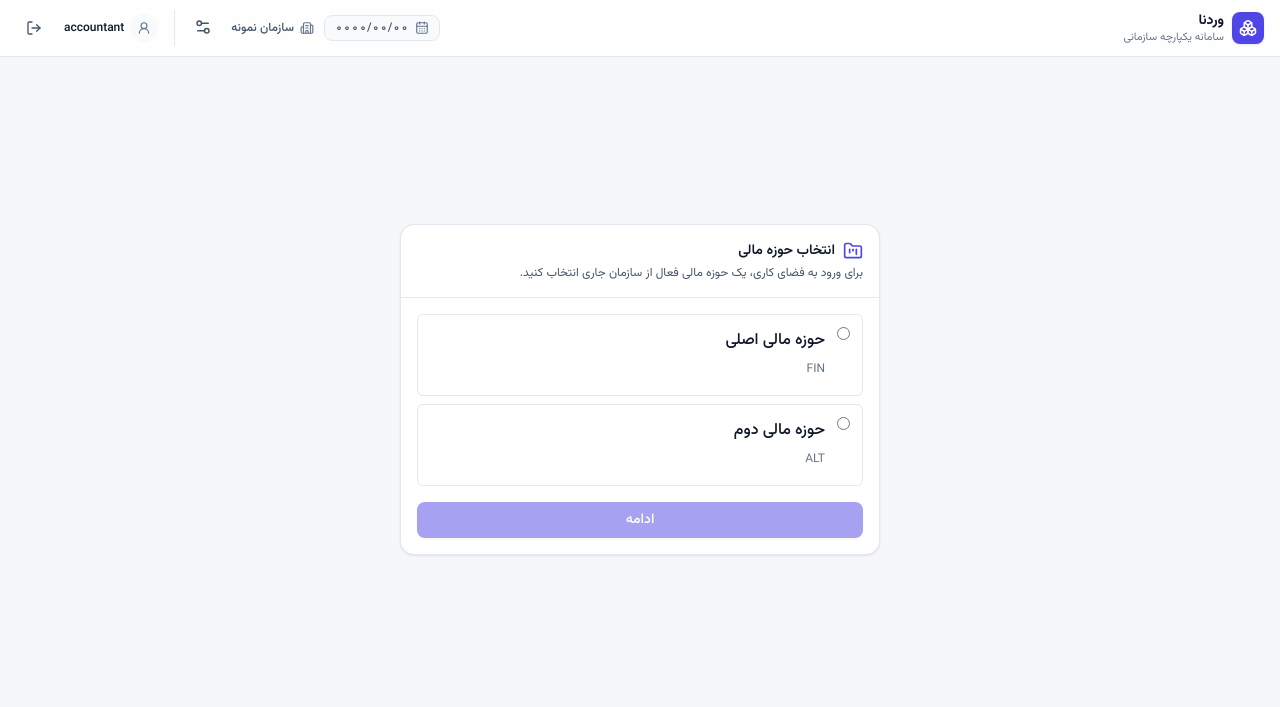
Test case: financial workspace context gate › clears a stale fiscal-year selection when the active area changes
The width and height of the screenshot is (1280, 707).
Click the radio button labelled "حوزه مالی اصلی FIN" at {"x": 844, "y": 333}, box [837, 326, 850, 340]
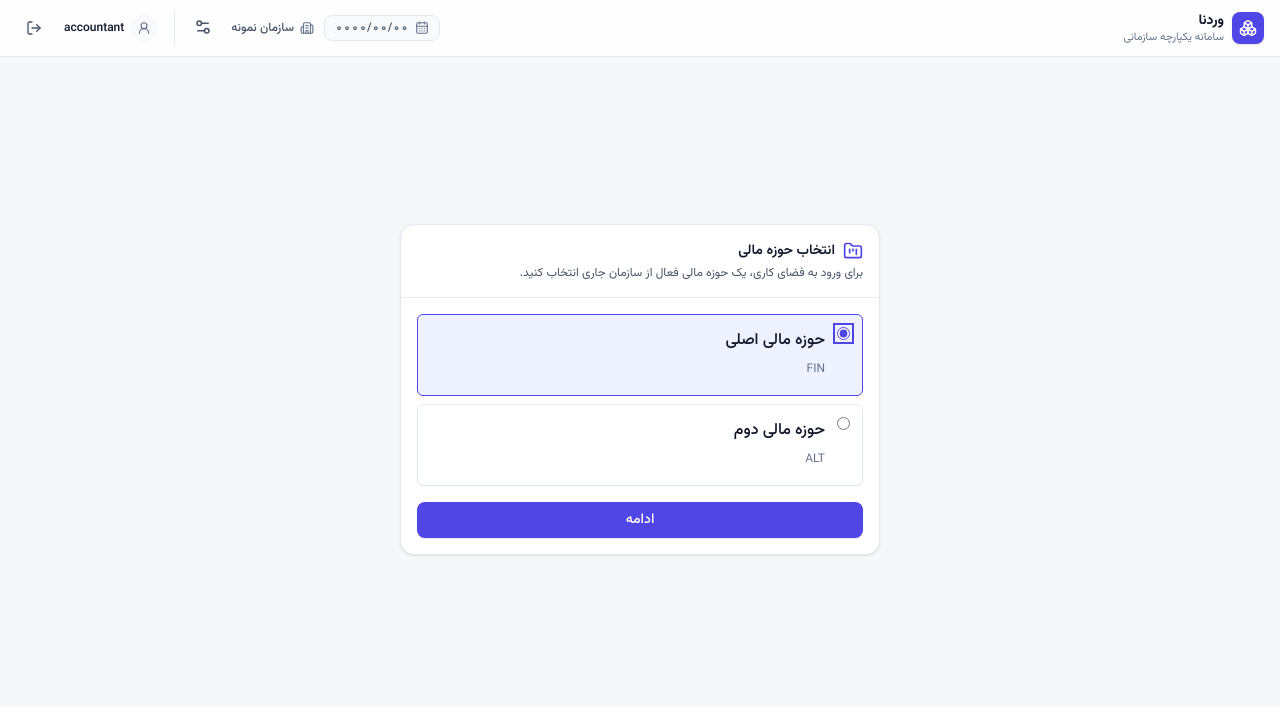
Click the button "ادامه" at {"x": 640, "y": 520}, box [417, 502, 863, 538]
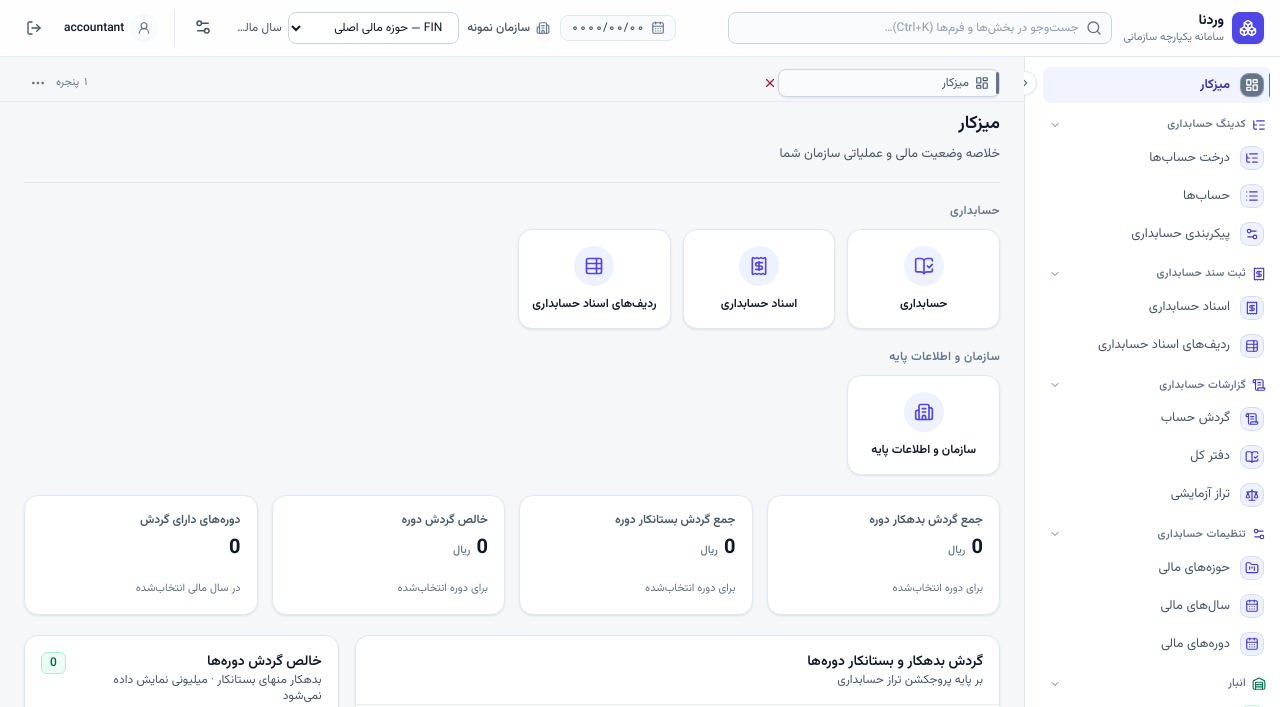
Expected: the heading "میزکار" is shown, [958, 110, 1000, 138]
Select "ALT — حوزه مالی دوم" in the dropdown named "تغییر حوزه مالی" at {"x": 374, "y": 28}, box [288, 12, 459, 44]
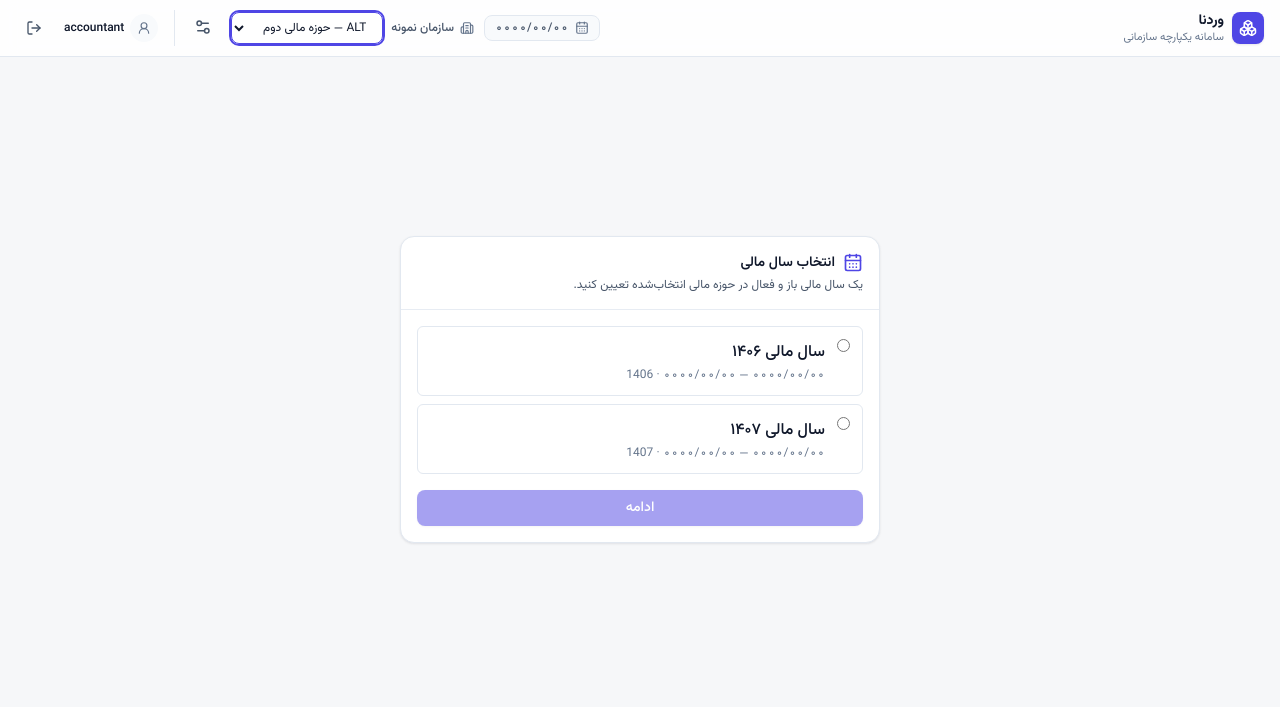
Expected: the heading "انتخاب سال مالی" is shown, [740, 252, 863, 274]
Expected: the link "میزکار" is gone
Expected: the text "سال مالی ۱۴۰۶" is shown, [732, 340, 825, 364]
